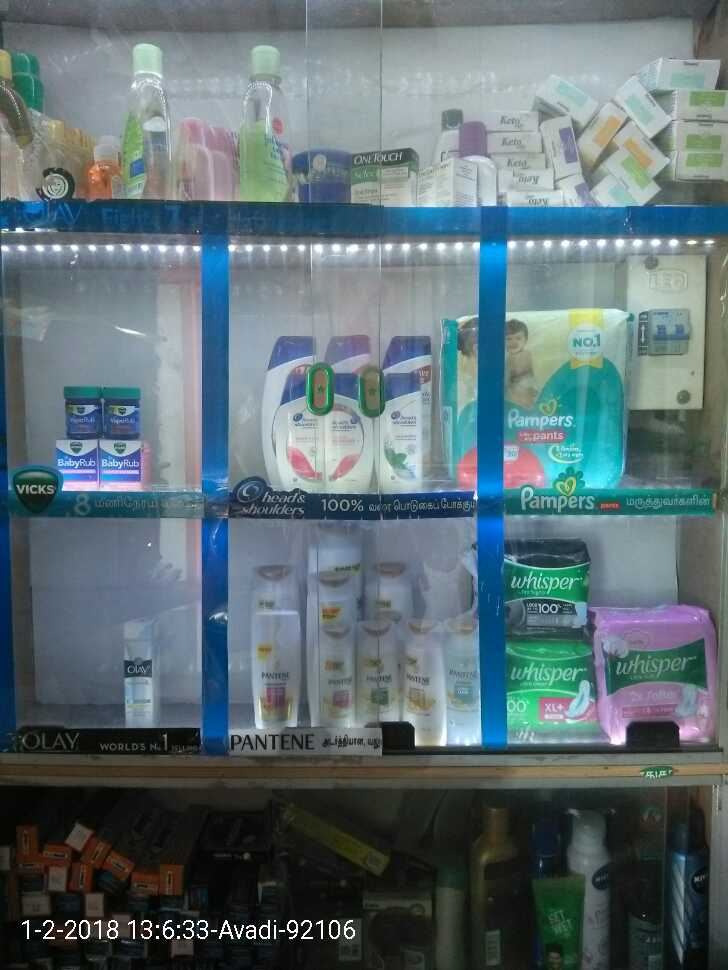vicks: (55, 384, 152, 487)
